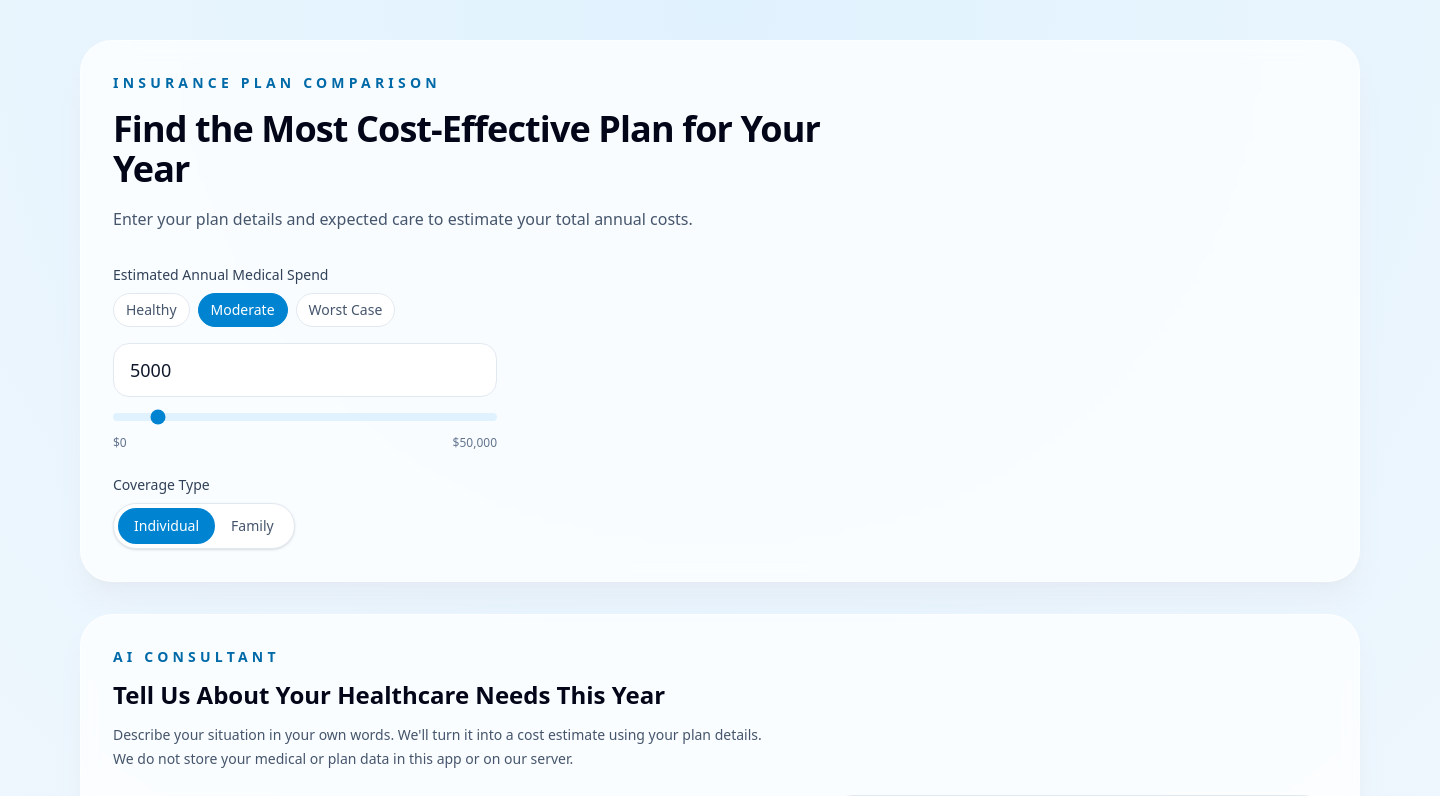
Test case: App integration › uses family preset values after switching coverage type
Click the button "family". click: click(252, 526)
box: 215,508 -> 290,544
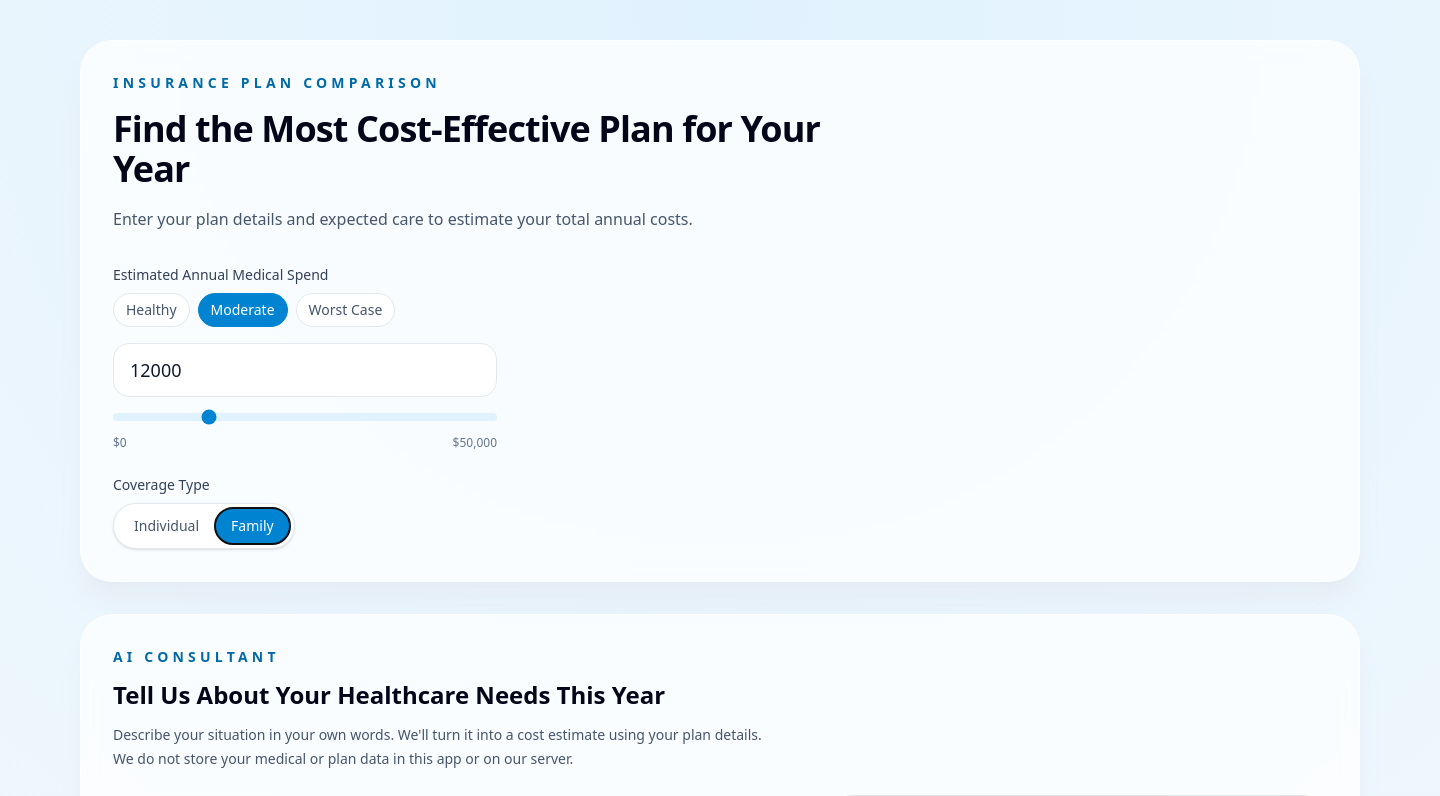
Click the button with aria-label "Healthy:". click: click(151, 310)
box: 113,293 -> 190,327
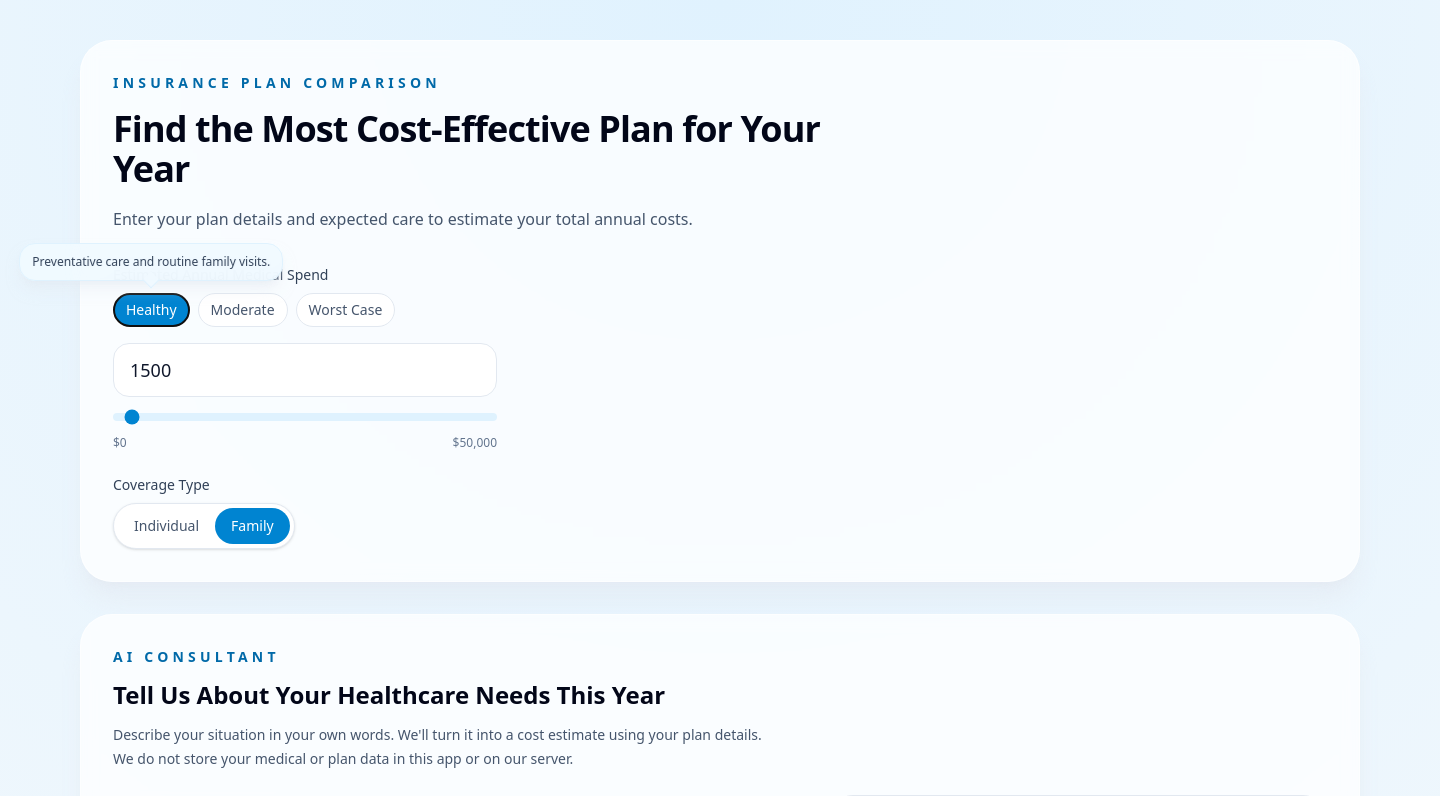
Now the number field labelled "Estimated Annual Medical Spend" holds "1500", box 113,343 -> 497,397
Click the button with aria-label "Moderate:". click: click(243, 310)
box: 198,293 -> 288,327
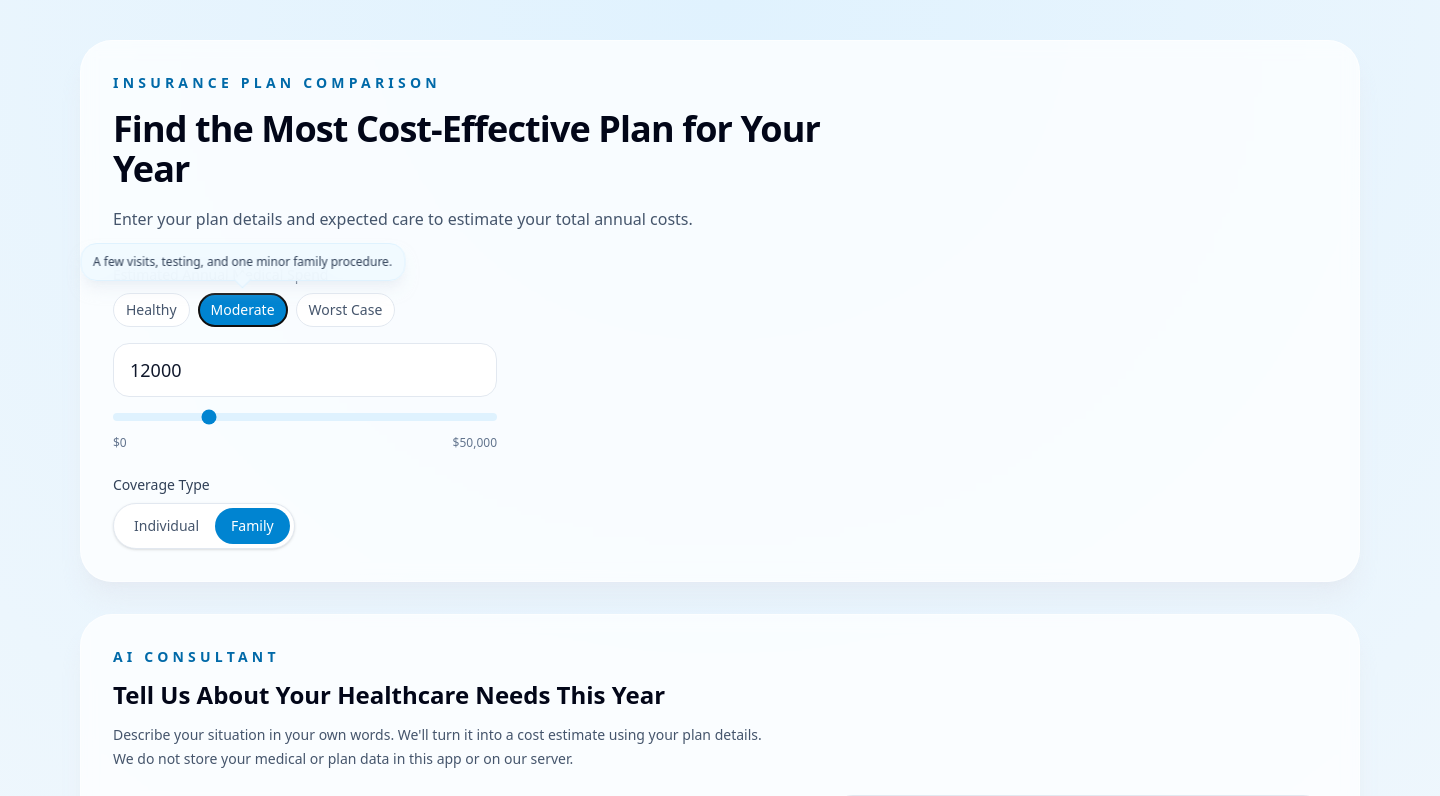
Now the number field labelled "Estimated Annual Medical Spend" holds "12000", box 113,343 -> 497,397
Click the button with aria-label "Worst Case:". click: click(345, 310)
box: 296,293 -> 395,327
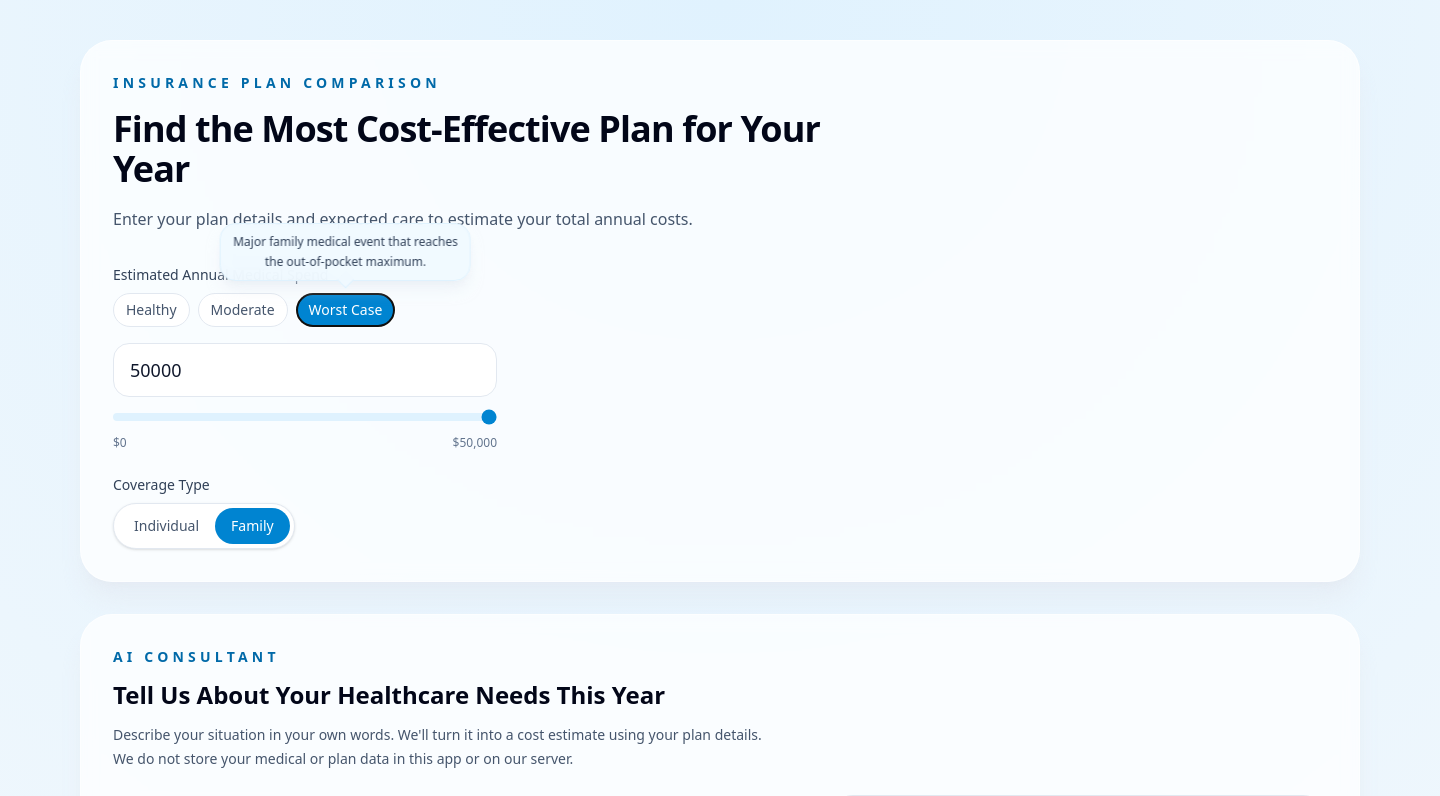
Now the number field labelled "Estimated Annual Medical Spend" holds "50000", box 113,343 -> 497,397
